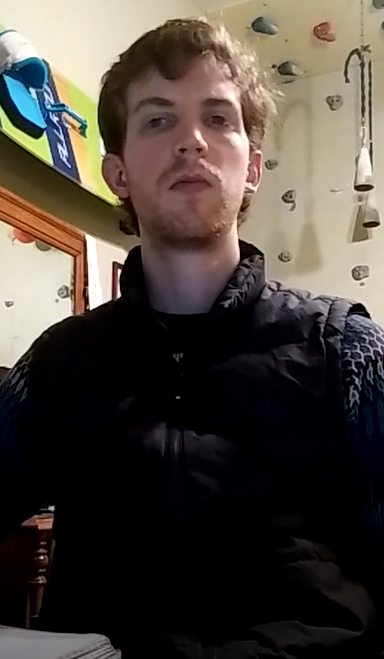Not Sleeping: (134, 95, 246, 140)
